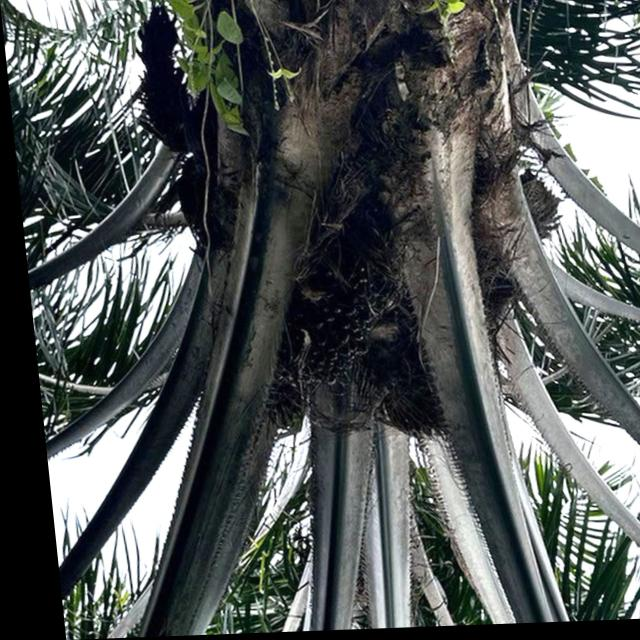almost: (251, 207, 440, 395)
